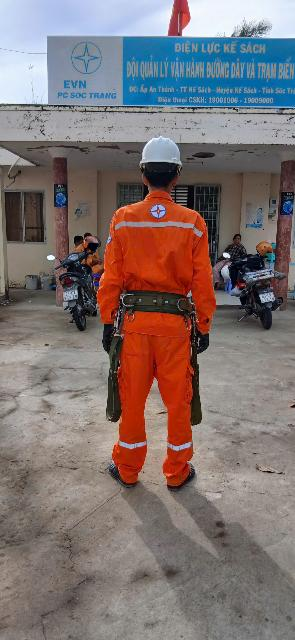gloves: (185, 321, 220, 357), (91, 325, 122, 362)
harness: (112, 272, 207, 327)
helmet: (135, 123, 199, 172)
shoes: (169, 454, 206, 492), (98, 460, 137, 491)
